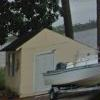Boat: (42, 55, 100, 100)
